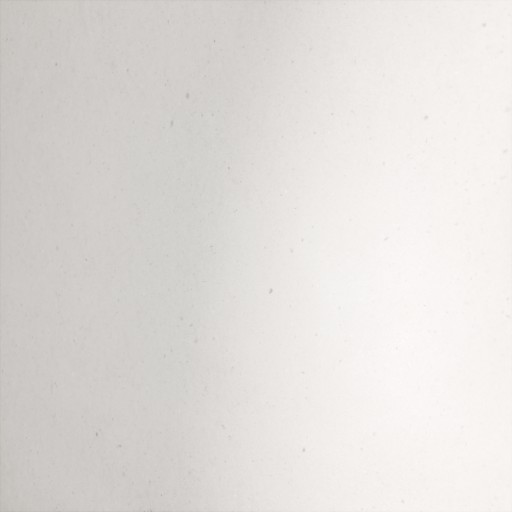lego: (209, 235, 304, 279)
